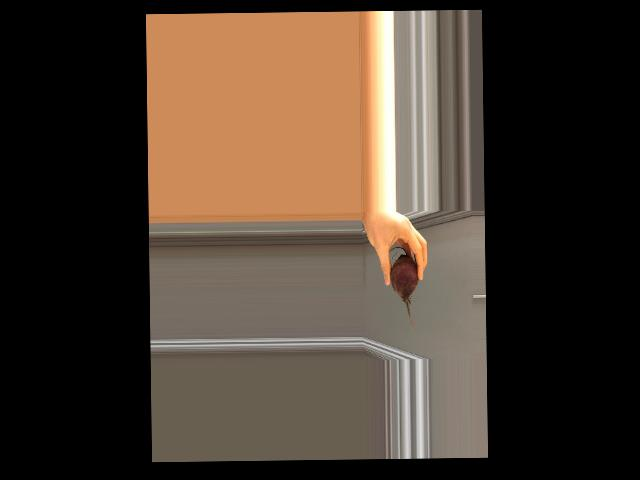beet: (389, 247, 418, 335)
